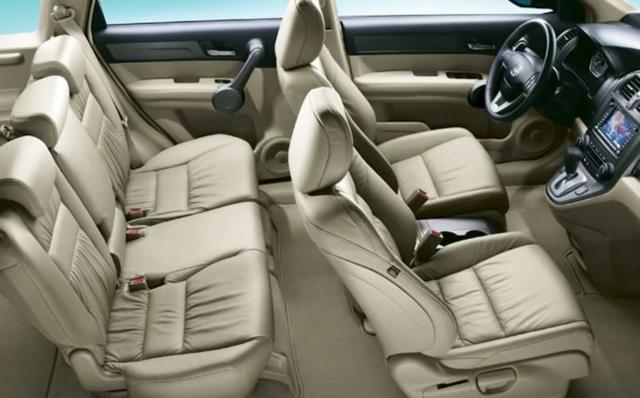Seatbelt: (57, 17, 126, 129)
